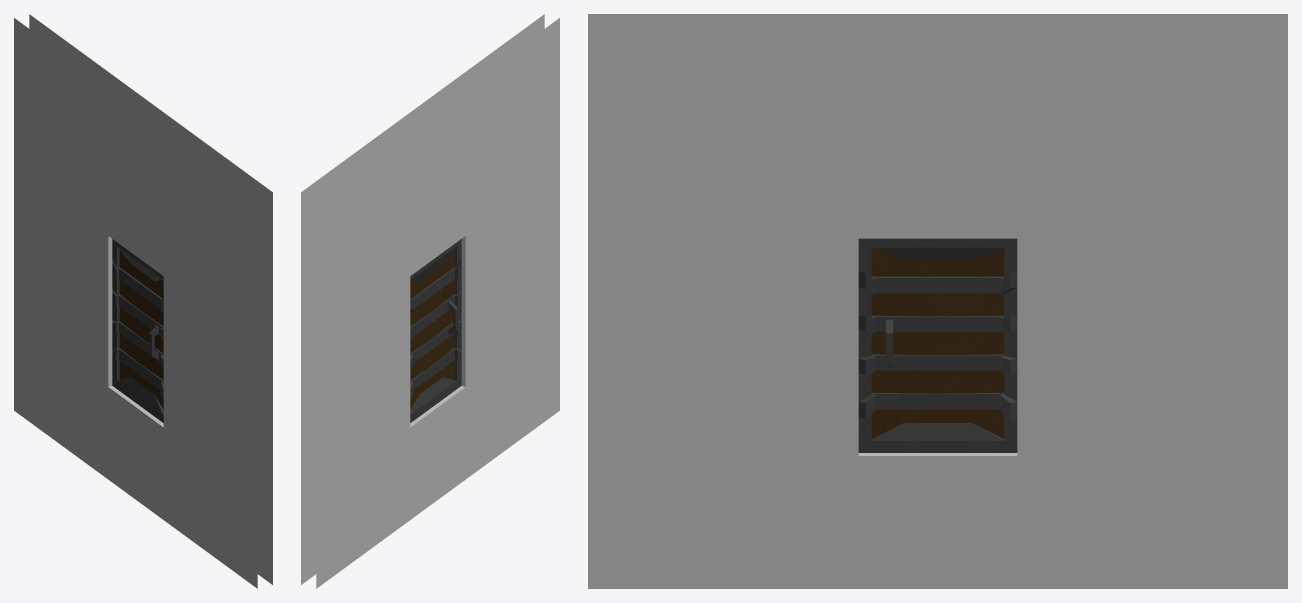
Rendered from CaveDoor.fbx.
3 views of the same model, side by side, from view 1: azimuth 30°, elevation 25°; view 2: azimuth 150°, elevation 25°; view 3: azimuth 270°, elevation 25° (orthographic). The views are drawn at different scales.
Visible parts, largest first — view 1: CaveDoorP2, CaveDoorP1; view 2: CaveDoorP2, CaveDoorP1; view 3: CaveDoorP2, CaveDoorP1.
Part boxes in pixels (x1,y1,x2,y2): CaveDoorP2: (14, 14, 272, 588); CaveDoorP1: (112, 239, 163, 422); CaveDoorP2: (301, 14, 559, 588); CaveDoorP1: (410, 239, 461, 422); CaveDoorP2: (588, 14, 1287, 588); CaveDoorP1: (858, 238, 1017, 452).
Bounding box in the file's own units: 26.44 × 512 × 575.
